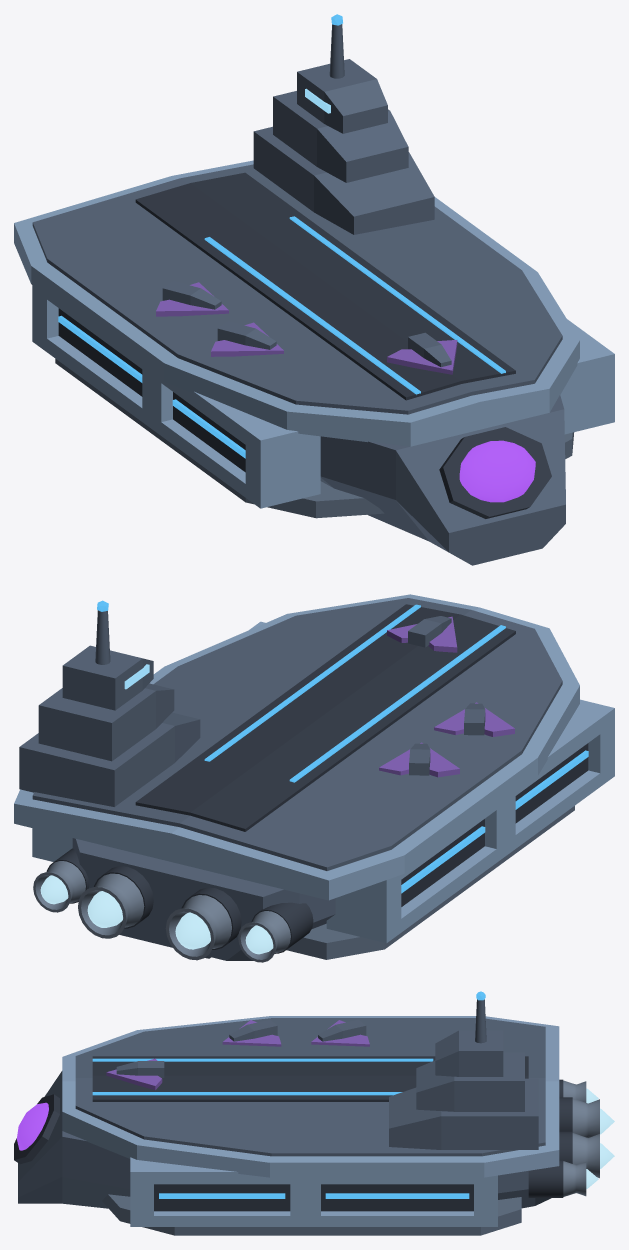
Rendered from titan_carrier.glb.
The picture shows the model from 3 angles, top to bottom: view 1: azimuth 30°, elevation 25°; view 2: azimuth 150°, elevation 25°; view 3: azimuth 270°, elevation 25°; orthographic projection. The views are drawn at different scales.
Visible parts, largest first — view 1: titan_carrier; view 2: titan_carrier; view 3: titan_carrier.
Boxes of the visible parts, x1,y1,x2,y2 form: titan_carrier: (14,14,614,565); titan_carrier: (14,594,614,962); titan_carrier: (14,991,614,1235).
Bounding box in the file's own units: 5.1 × 4.25 × 8.83.
